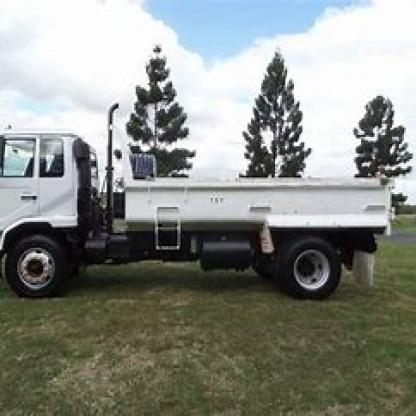dump_truck: (0, 116, 414, 312)
